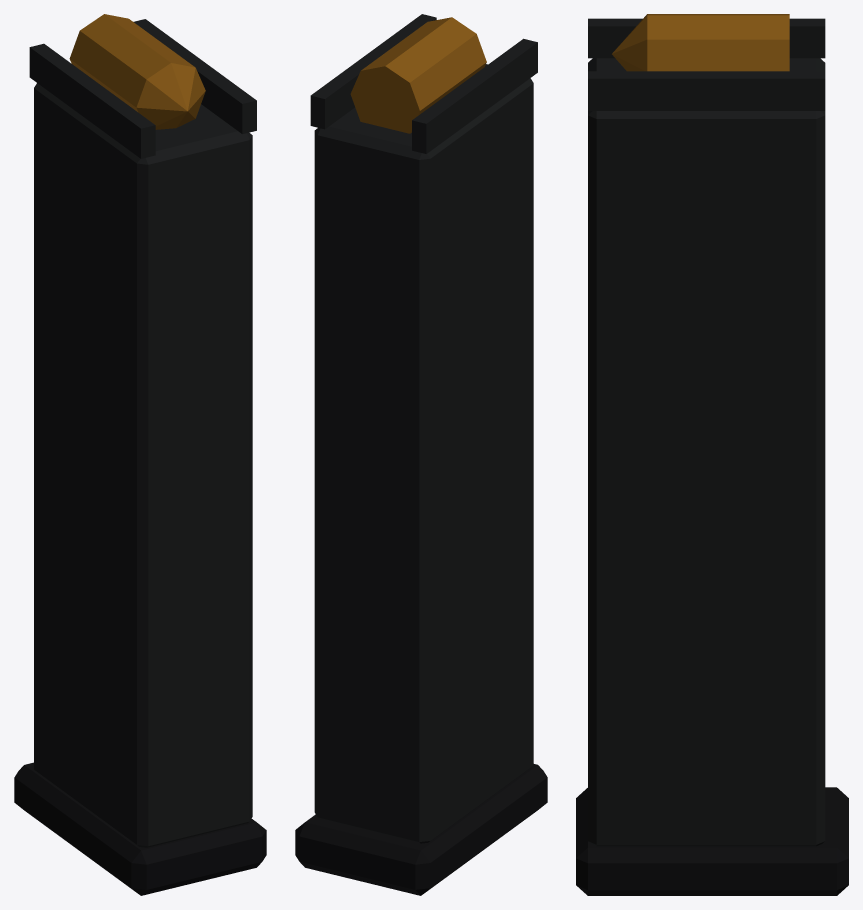
Rendered from SMG Magazine.obj.
3 views of the same model, side by side, from view 1: azimuth 30°, elevation 25°; view 2: azimuth 150°, elevation 25°; view 3: azimuth 270°, elevation 25° (orthographic). The views are drawn at different scales.
Parts seen in each view (by area): view 1: Gunmetal, Polymer, Brass; view 2: Gunmetal, Polymer, Brass; view 3: Gunmetal, Polymer, Brass.
Part boxes in pixels (bbox=[...]): Gunmetal: bbox=[29, 19, 256, 847]; Polymer: bbox=[14, 762, 266, 895]; Brass: bbox=[69, 14, 205, 129]; Gunmetal: bbox=[310, 14, 537, 843]; Polymer: bbox=[295, 764, 547, 895]; Brass: bbox=[350, 17, 486, 133]; Gunmetal: bbox=[588, 18, 825, 846]; Polymer: bbox=[576, 787, 848, 895]; Brass: bbox=[612, 14, 789, 71].
Size of the model in its own units: 0.028 by 0.1582 by 0.046.
